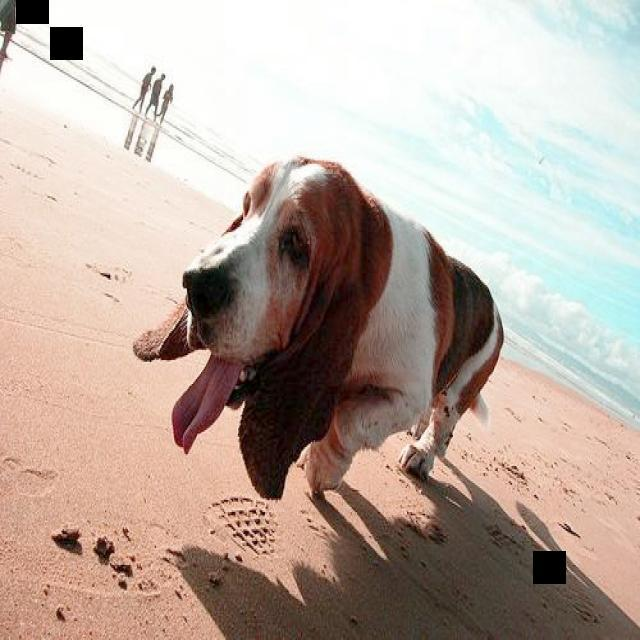adult_dog: (130, 155, 505, 502)
